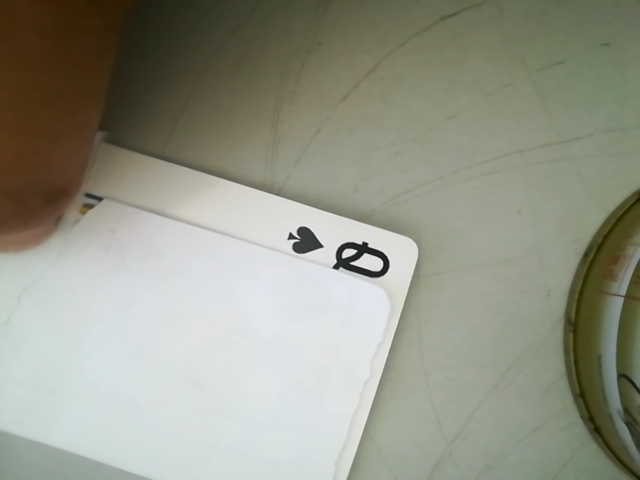ht q: (275, 219, 413, 285)
